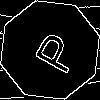P: (25, 25, 82, 77)
